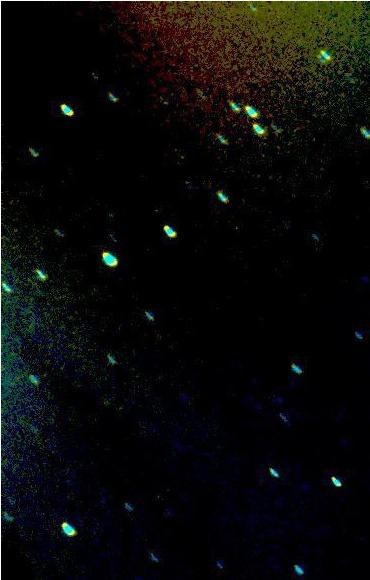star: (92, 389, 122, 419)
